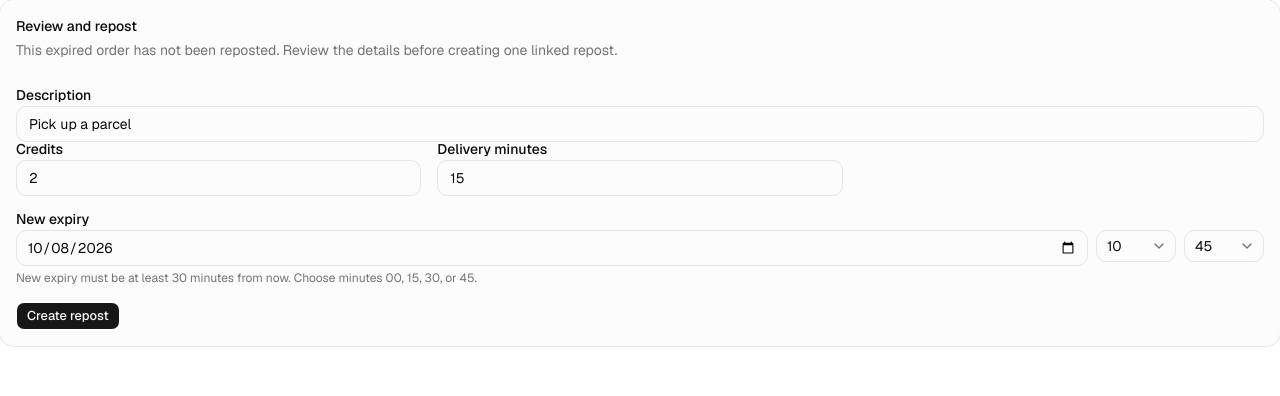
Test: manual repost quarter-hour expiry › keeps the expired card and shows only the semantic insufficient-credit message
The image size is (1280, 396).
Click the button "Create repost" at (68, 316), box [16,302,120,330]
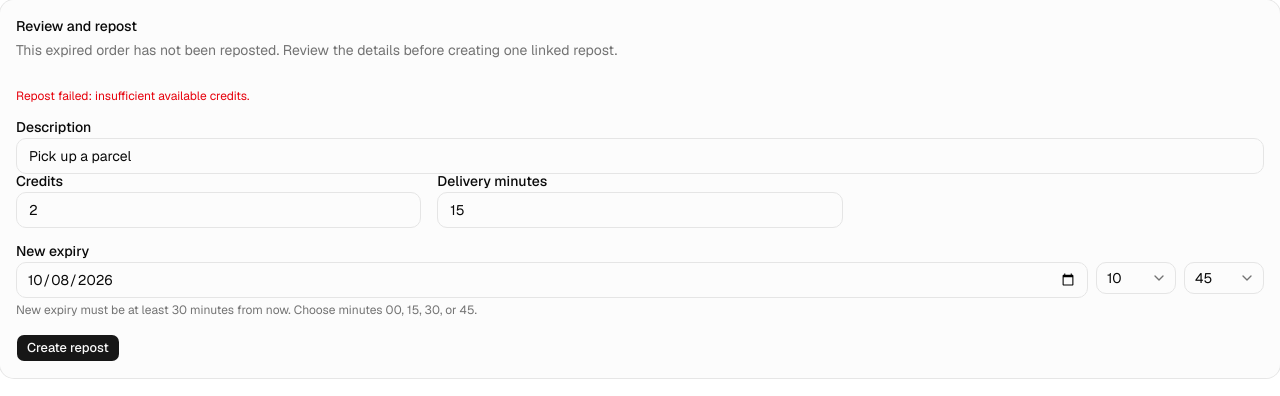
Result: the text "Repost failed: insufficient available credits." is shown at [16,88,249,104]
